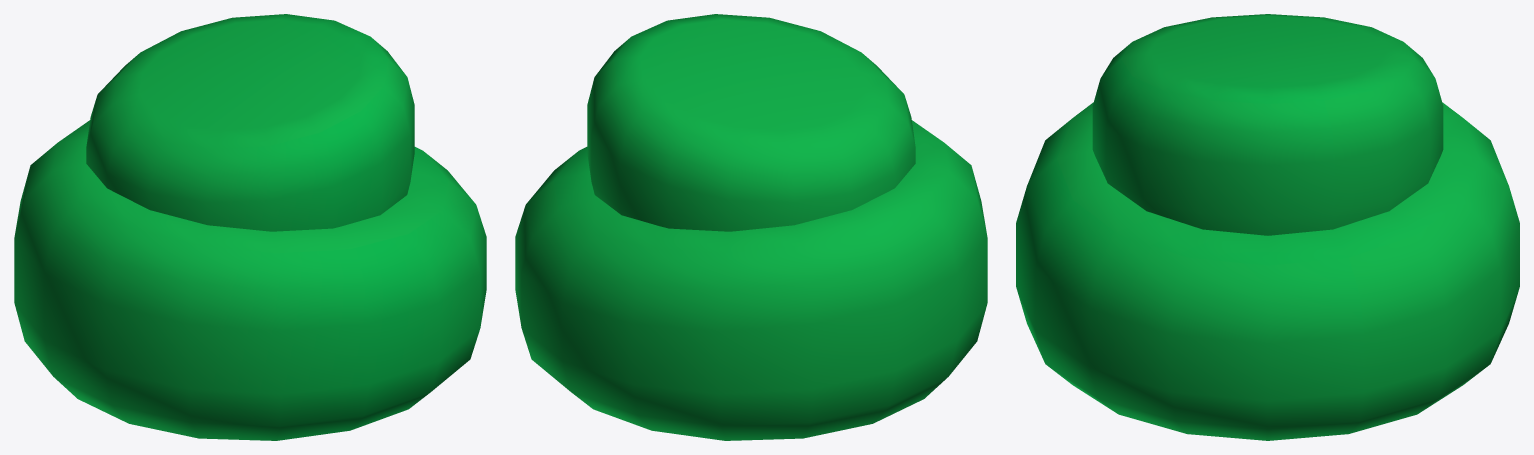
The model's file is Town_4_Bush_2.glb.
3 views of the same model, side by side, from view 1: azimuth 30°, elevation 25°; view 2: azimuth 150°, elevation 25°; view 3: azimuth 270°, elevation 25° (orthographic). The views are drawn at different scales.
Visible parts, largest first — view 1: Town_4_Bush_2; view 2: Town_4_Bush_2; view 3: Town_4_Bush_2.
Boxes of the visible parts, x1=… form: Town_4_Bush_2: x1=14, y1=14, x2=486, y2=440; Town_4_Bush_2: x1=515, y1=14, x2=987, y2=440; Town_4_Bush_2: x1=1016, y1=14, x2=1519, y2=440.
Bounding box in the file's own units: 1.56 × 1.1 × 1.56.
Materials: 1 (1 with a texture image).
